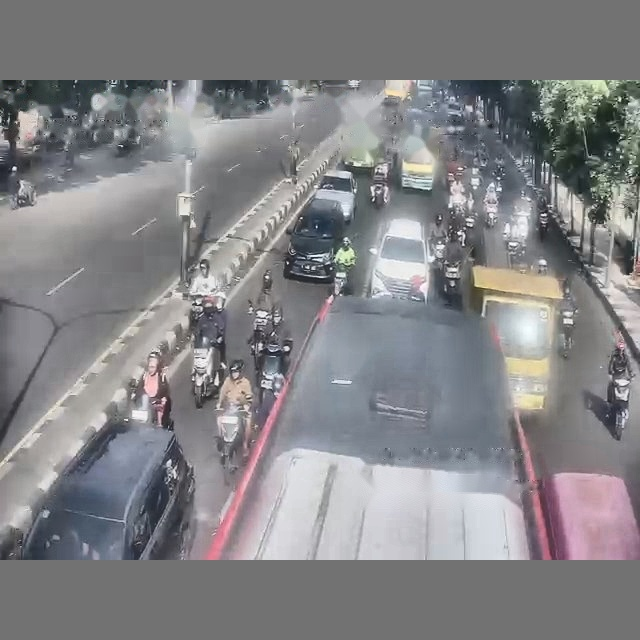Bis: (208, 297, 543, 559)
Mobil: (21, 420, 194, 559), (283, 198, 345, 281), (369, 218, 432, 298), (314, 170, 357, 223), (446, 114, 465, 135), (447, 99, 463, 117), (299, 87, 316, 101), (347, 80, 360, 89)
Motor: (216, 404, 246, 485), (129, 380, 173, 430), (193, 335, 222, 408), (249, 308, 271, 368), (610, 375, 630, 440), (560, 309, 575, 358), (10, 180, 36, 208), (444, 262, 460, 303), (332, 263, 348, 296), (538, 210, 549, 242), (433, 238, 445, 267), (371, 184, 384, 209), (485, 203, 498, 228)
Truk: (400, 135, 435, 191)
